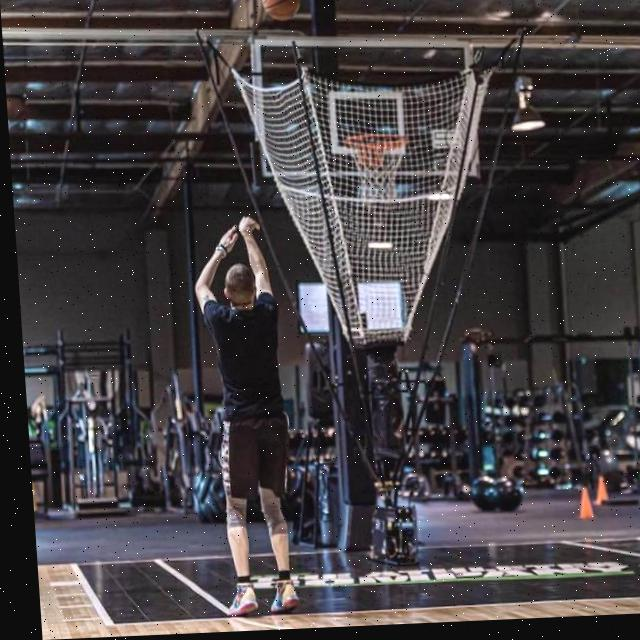Basketball: (260, 0, 303, 21)
hoop: (344, 132, 413, 202)
